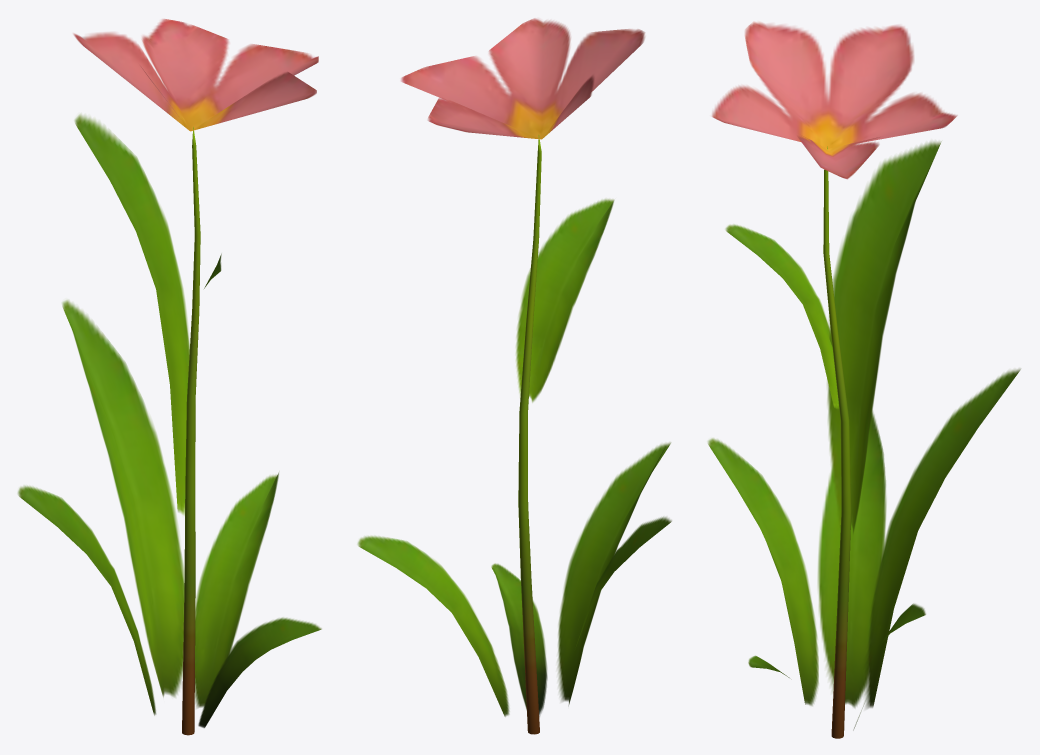
Rendered from Flower_Single.glb.
The picture shows the model from 3 angles, left to right: view 1: azimuth 30°, elevation 25°; view 2: azimuth 150°, elevation 25°; view 3: azimuth 270°, elevation 25°; orthographic projection. The views are drawn at different scales.
Parts seen in each view (by area): view 1: Flower_3_Single; view 2: Flower_3_Single; view 3: Flower_3_Single.
Part boxes in pixels (left/top/right/bottom): Flower_3_Single: left=18, top=19, right=321, bottom=735; Flower_3_Single: left=357, top=18, right=671, bottom=734; Flower_3_Single: left=708, top=21, right=1020, bottom=738.
Size of the model in its own units: 0.9066 by 2.07 by 0.8775.
2 materials, 2 textured.
